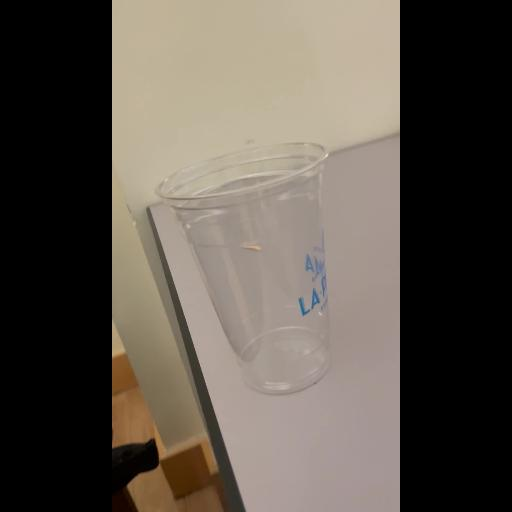lp_plastic_cup: (134, 134, 358, 404)
